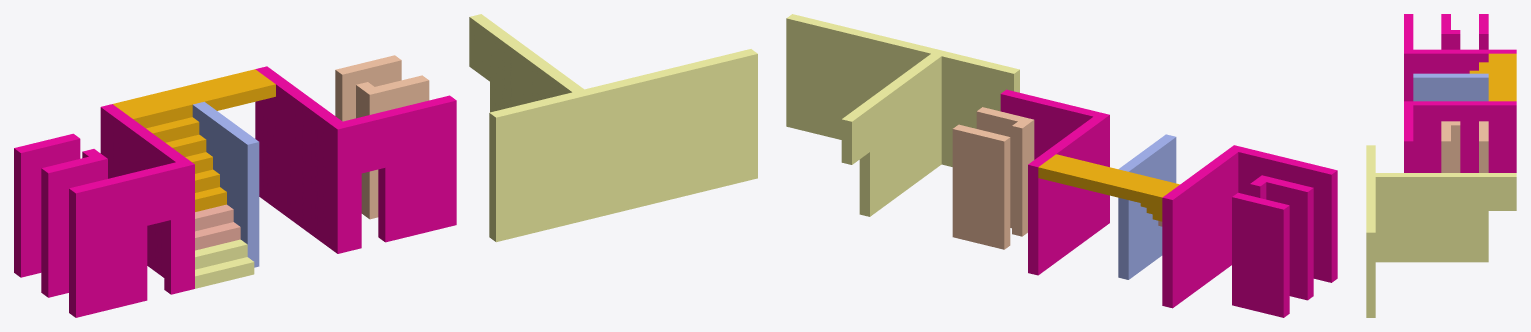
3 views of the same model, side by side, from view 1: azimuth 30°, elevation 25°; view 2: azimuth 150°, elevation 25°; view 3: azimuth 270°, elevation 25° (orthographic). The views are drawn at different scales.
Parts seen in each view (by area): view 1: Layer.3, Layer.2, Layer.1; view 2: Layer.3, Layer.2, Layer.1; view 3: Layer.2, Layer.3, Layer.1.
Part boxes in pixels (<box>): Layer.3: <box>14,55,456,317</box>; Layer.2: <box>469,14,757,242</box>; Layer.1: <box>113,69,275,288</box>; Layer.3: <box>952,89,1337,317</box>; Layer.2: <box>786,14,1019,216</box>; Layer.1: <box>1038,134,1179,279</box>; Layer.2: <box>1366,145,1516,317</box>; Layer.3: <box>1404,14,1516,172</box>; Layer.1: <box>1413,53,1516,101</box>.
Size of the model in its own units: 55 by 10 by 16.
1 material, 1 textured.
